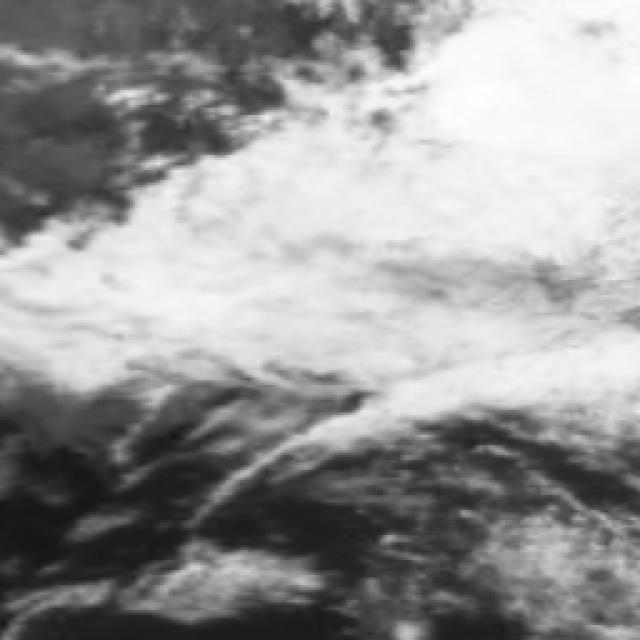CB: (467, 37, 640, 264)
